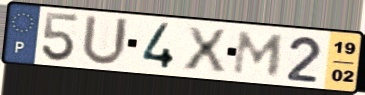2: (282, 32, 327, 85)
4: (139, 21, 178, 72)
5: (39, 9, 81, 63)
M: (230, 30, 287, 78)
U: (79, 13, 131, 68)
X: (182, 24, 229, 74)
